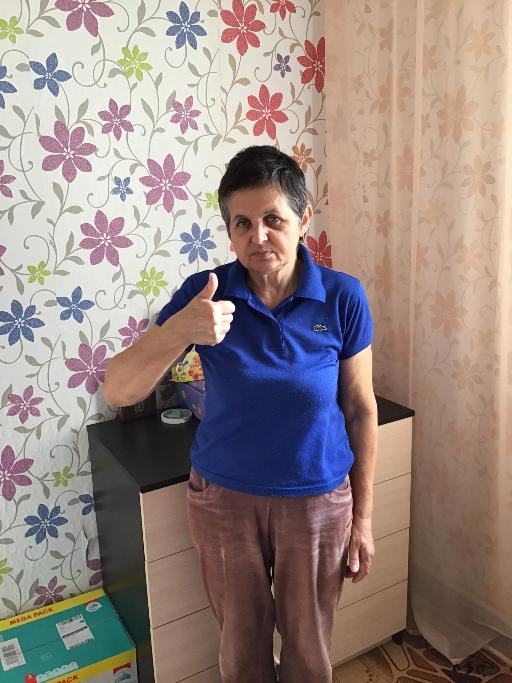like: (182, 271, 237, 351)
no_gesture: (343, 524, 380, 587)
